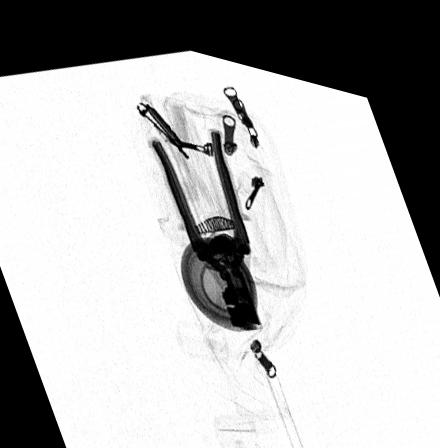Pliers: (148, 115, 261, 317)
